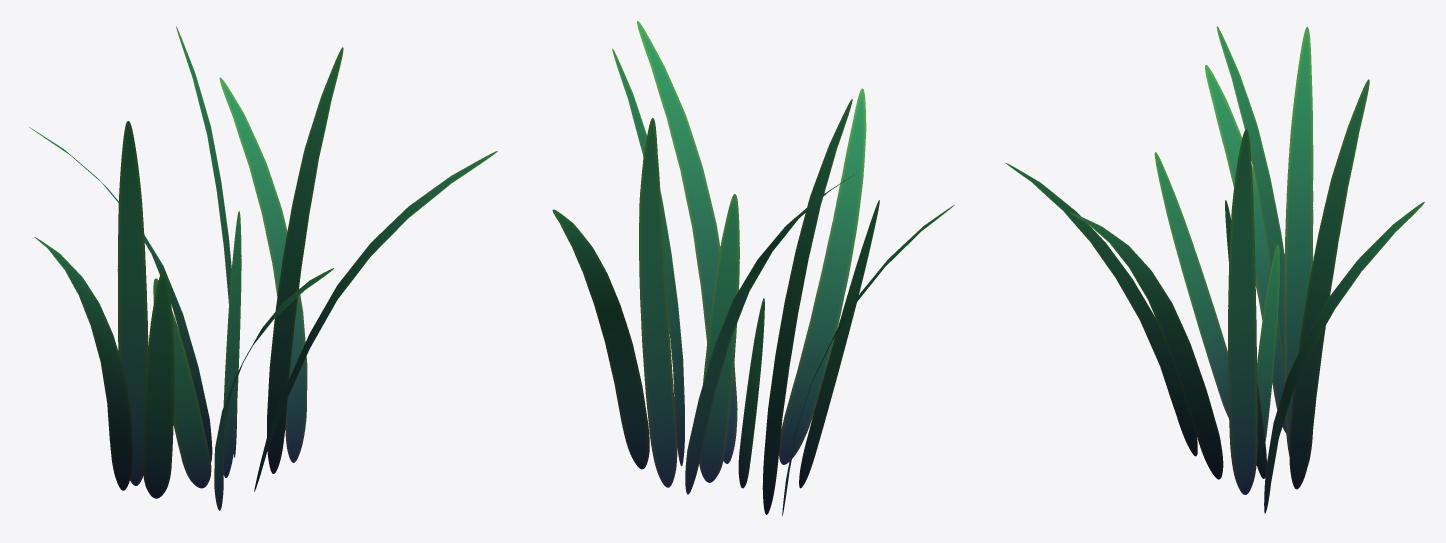
File: Grass1.fbx
3 renders of one model, left to right at view 1: azimuth 30°, elevation 25°; view 2: azimuth 150°, elevation 25°; view 3: azimuth 270°, elevation 25°, orthographic. The views are drawn at different scales.
Visible parts, largest first — view 1: Grass:Grass_low9.001; view 2: Grass:Grass_low9.001; view 3: Grass:Grass_low9.001.
Boxes of the visible parts, box(x1,y1,x2,y2) form: Grass:Grass_low9.001: box(29, 26, 497, 510); Grass:Grass_low9.001: box(552, 21, 954, 516); Grass:Grass_low9.001: box(1006, 26, 1424, 513).
Size of the model in its own units: 0.2776 by 0.2619 by 0.2708.
1 material, 1 textured.
